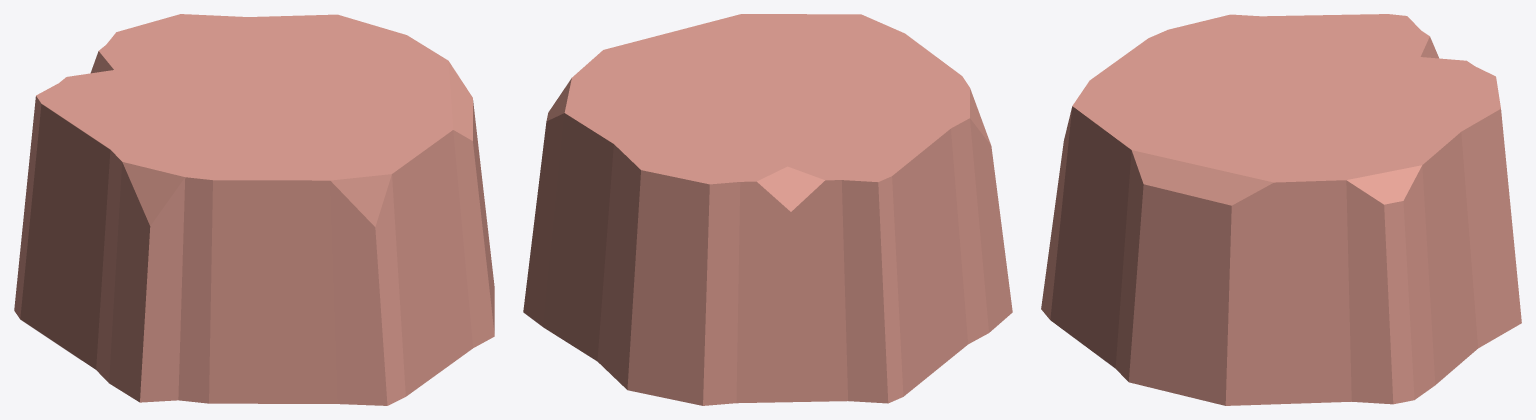
Rendered from SuperGrid_Hexagon_010_Vlad.fbx.
3 views of the same model, side by side, from view 1: azimuth 30°, elevation 25°; view 2: azimuth 150°, elevation 25°; view 3: azimuth 270°, elevation 25° (orthographic).
Parts seen in each view (by area): view 1: SuperGrid_Hexagon.010; view 2: SuperGrid_Hexagon.010; view 3: SuperGrid_Hexagon.010.
Boxes of the visible parts, <box> form: SuperGrid_Hexagon.010: <box>14,14,494,405</box>; SuperGrid_Hexagon.010: <box>523,14,1012,405</box>; SuperGrid_Hexagon.010: <box>1041,14,1521,405</box>.
Size of the model in its own units: 18828 by 10000 by 20466.
